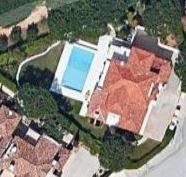pool: (68, 47, 86, 88)
